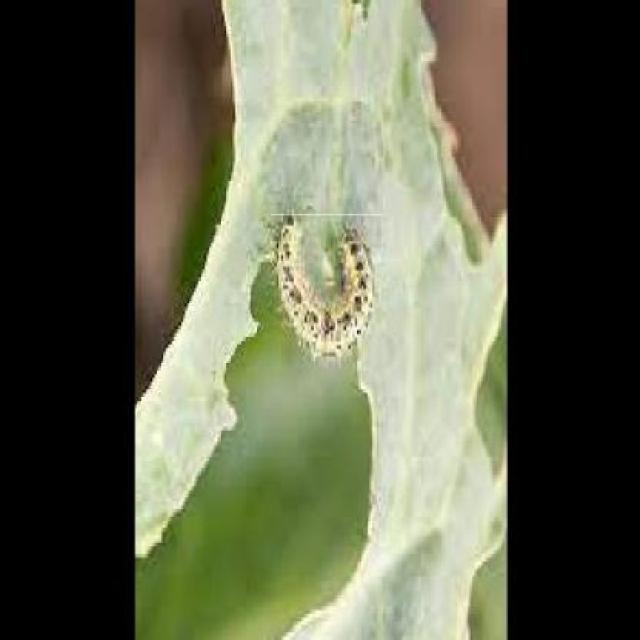Plaga: (271, 215, 386, 367)
